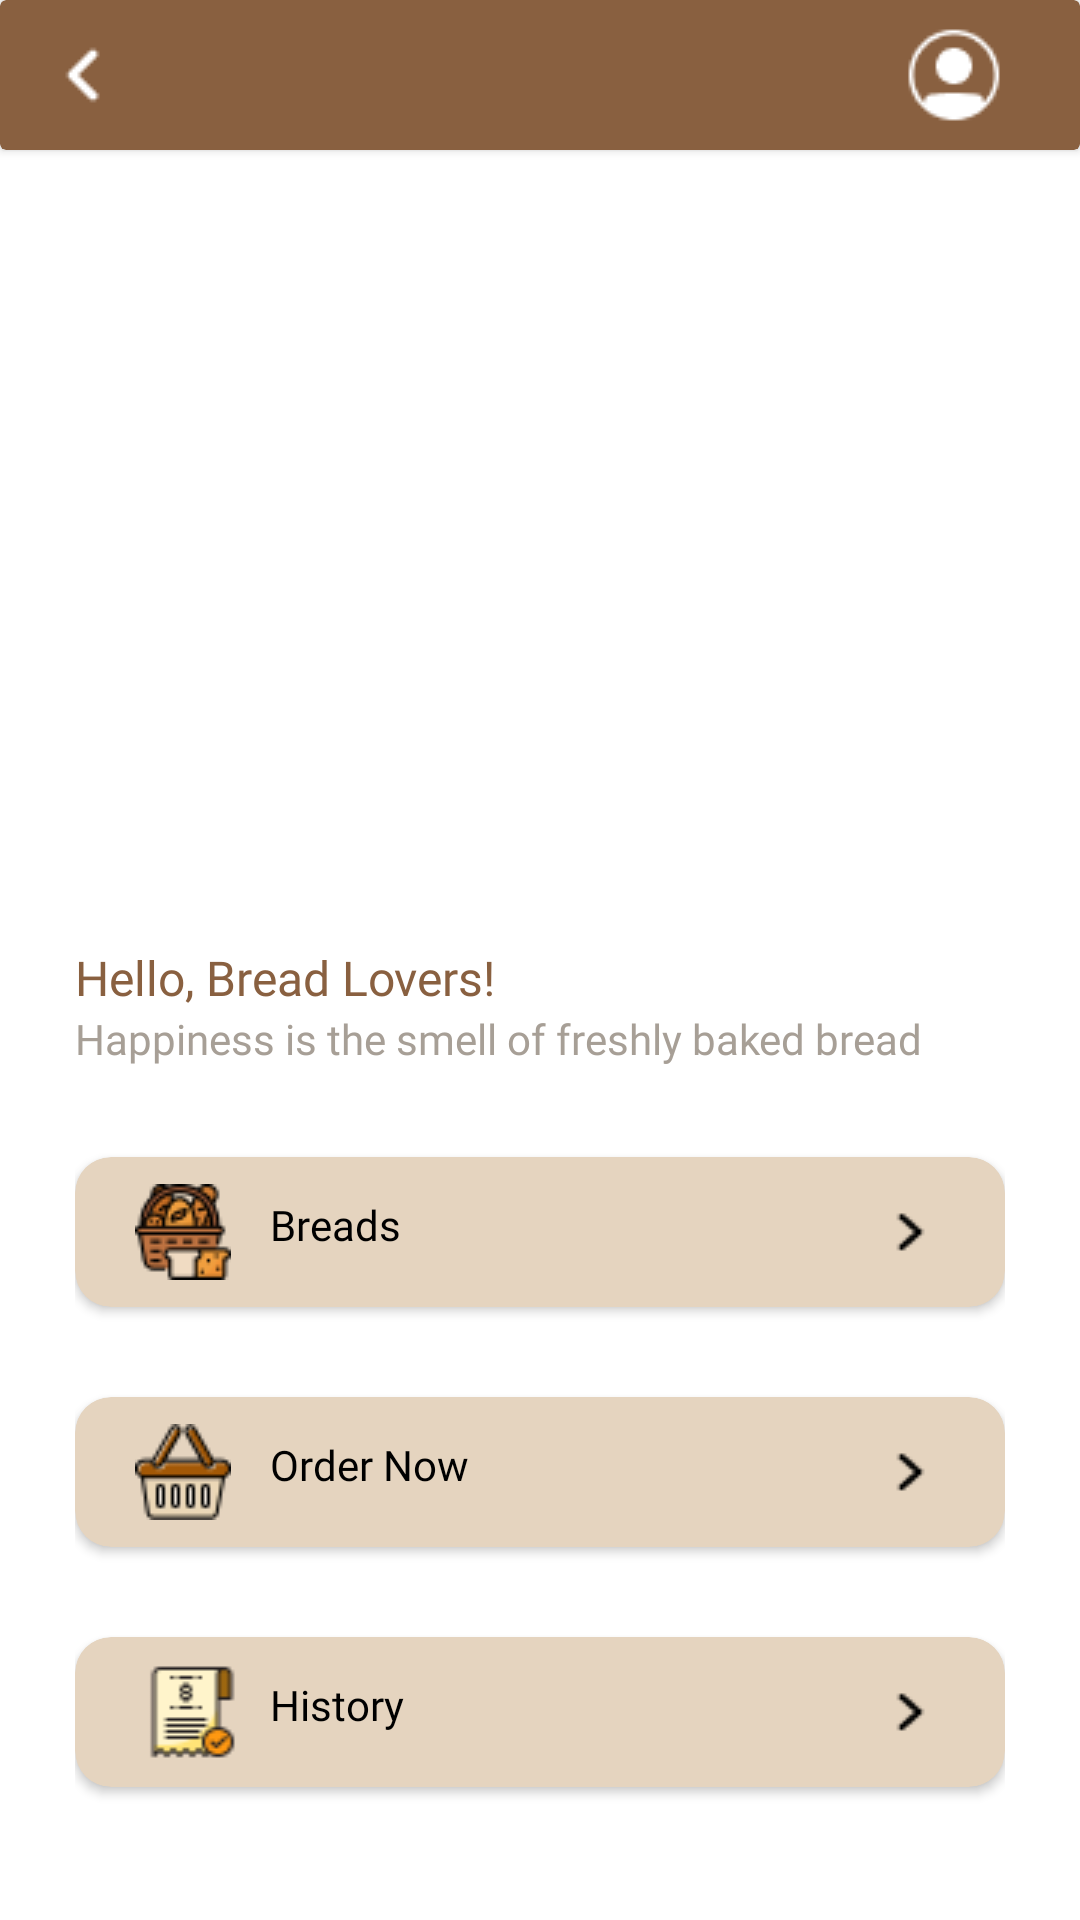

Where to tap for icons on this 1080×1920 app screen, as point (x, y):
back: point (83, 75)
user: point (954, 75)
